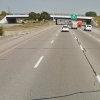Car: (55, 24, 100, 37)
